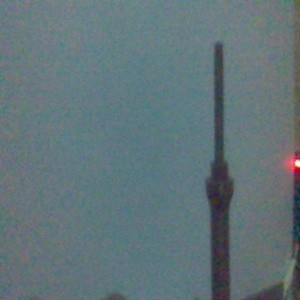obeng: (205, 40, 236, 300)
